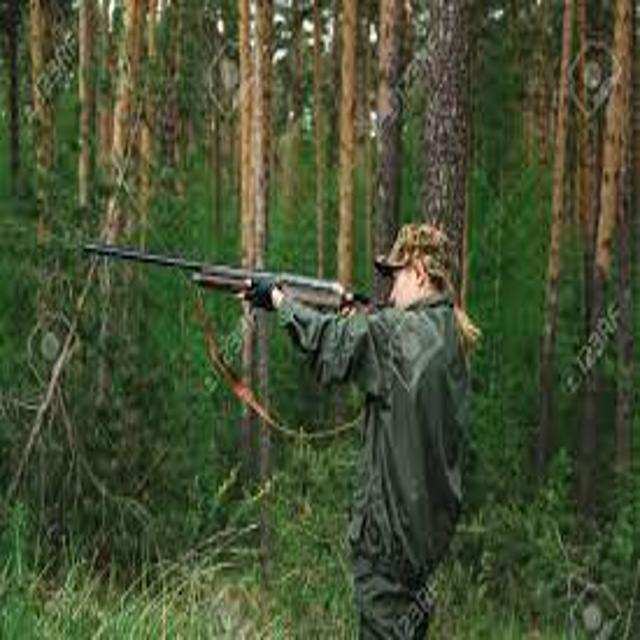gun: (68, 221, 434, 372)
poacher: (201, 204, 514, 640)
